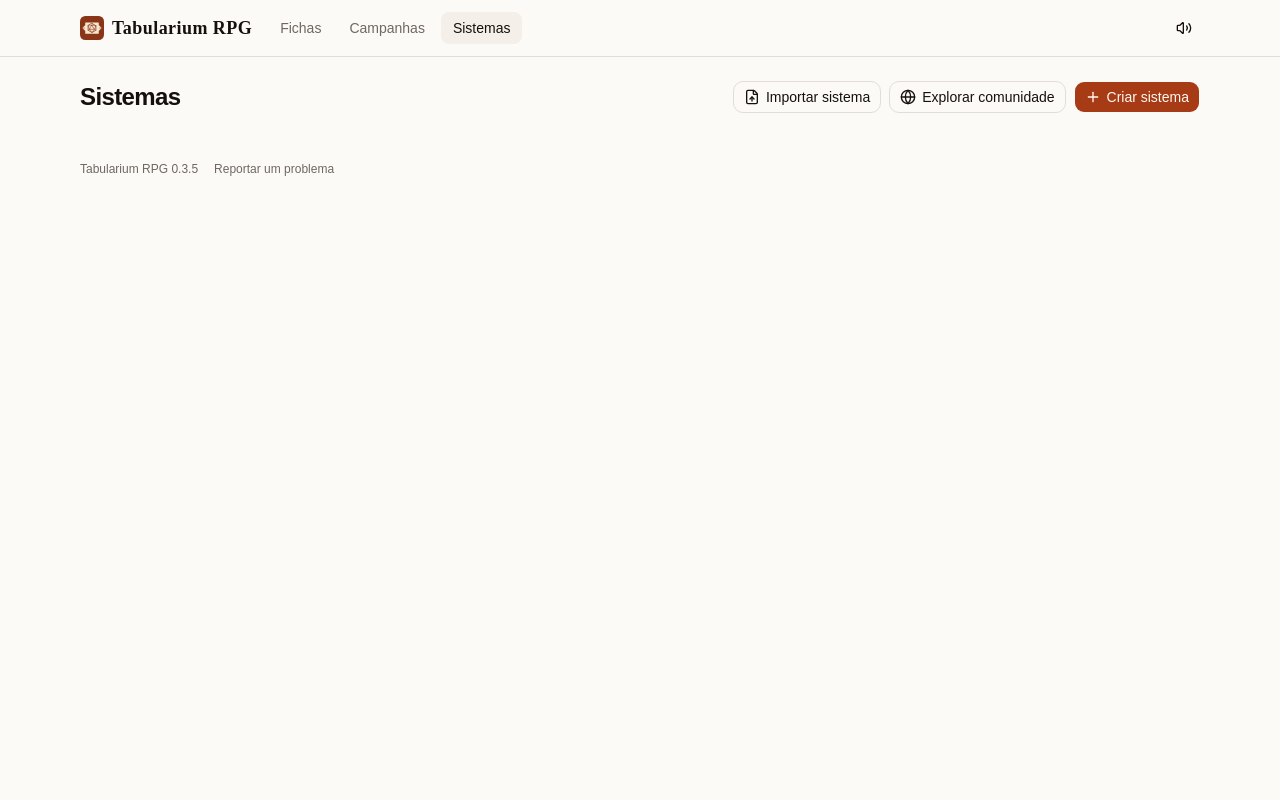
Test: criador de sistemas › cria um sistema pela lista de sistemas
This screenshot has width=1280, height=800.
Click the button "Criar sistema" at (1137, 97), box x1=1074 y1=81 x2=1200 y2=113
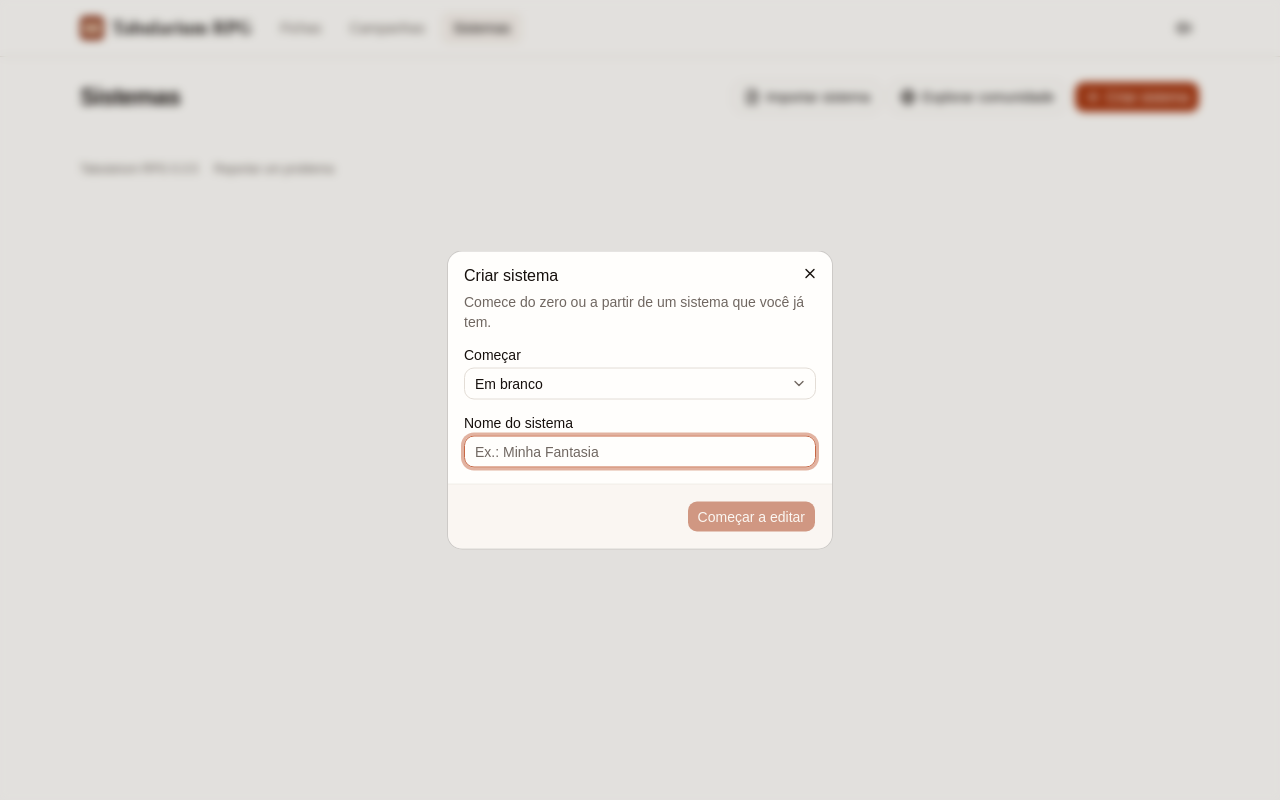
Type "Minha Fantasia" into the field labelled "Nome do sistema" at (640, 452), box x1=464 y1=436 x2=816 y2=468
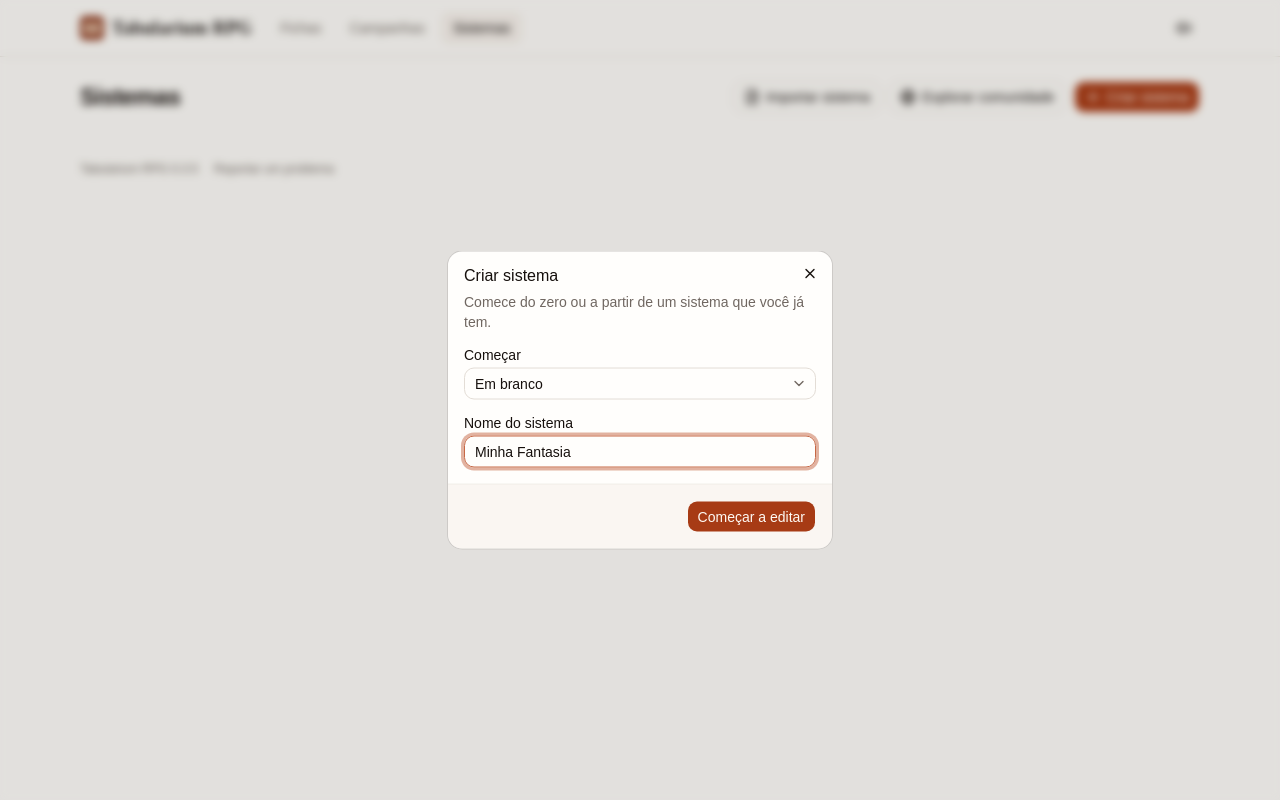
Click the button "Começar a editar" at (751, 516), box x1=687 y1=500 x2=816 y2=532
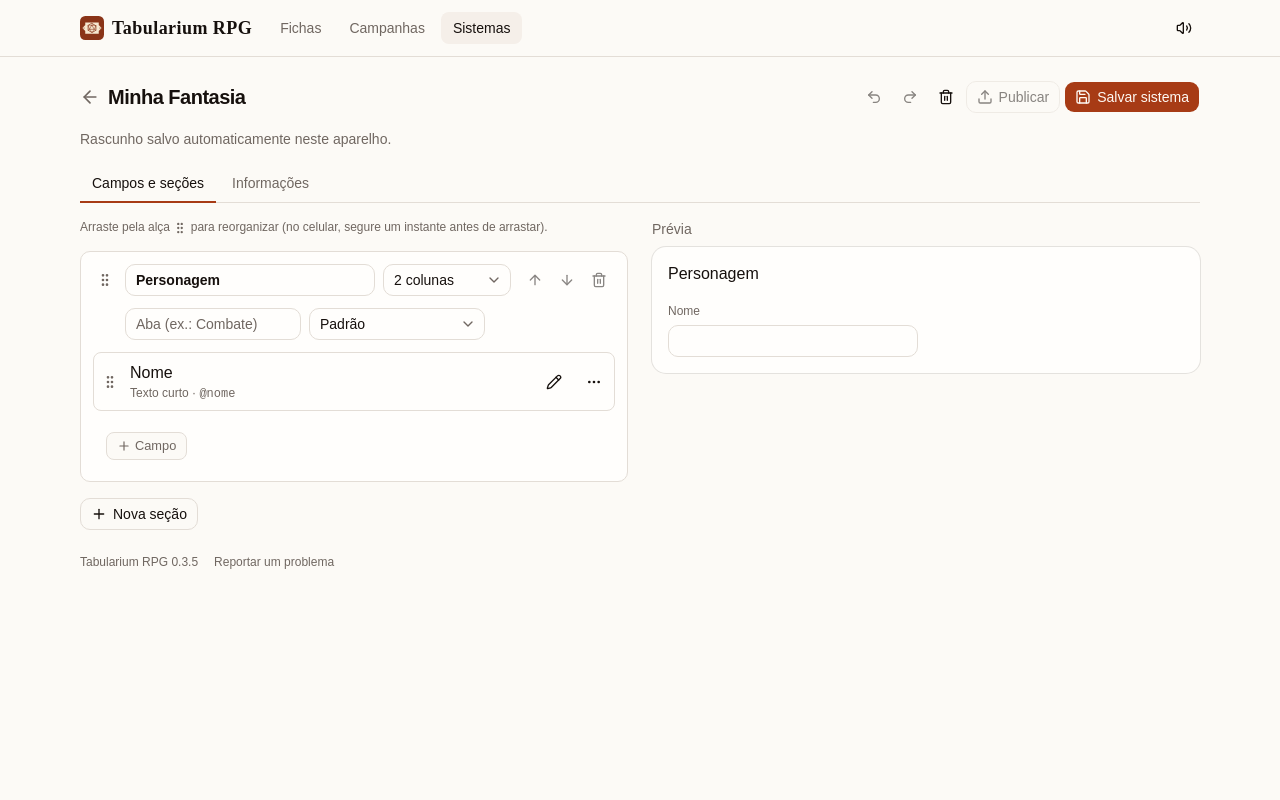
Result: the heading "Minha Fantasia" is shown at x1=108 y1=86 x2=246 y2=108
